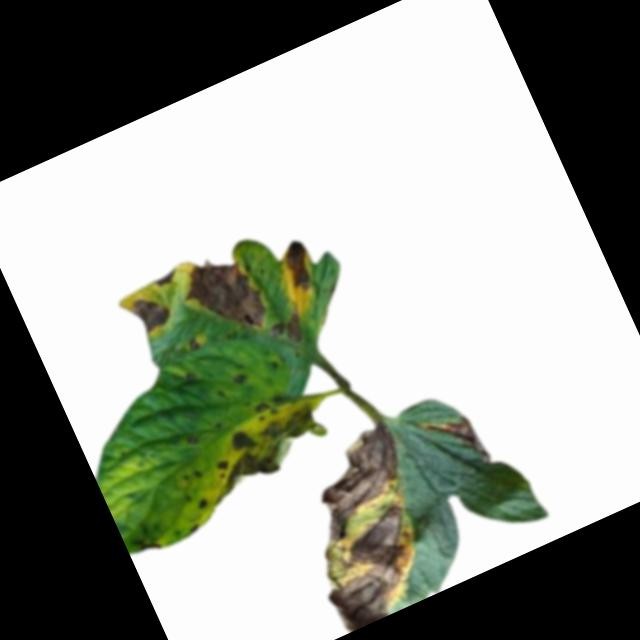Early_blight: (272, 423, 459, 634), (193, 398, 332, 503), (172, 244, 271, 351), (420, 402, 493, 483), (276, 236, 322, 296), (129, 288, 178, 338), (266, 312, 309, 352), (151, 267, 181, 289), (136, 536, 163, 558), (253, 399, 272, 417), (185, 337, 202, 355), (233, 372, 250, 389), (196, 496, 212, 512), (184, 435, 201, 448)
